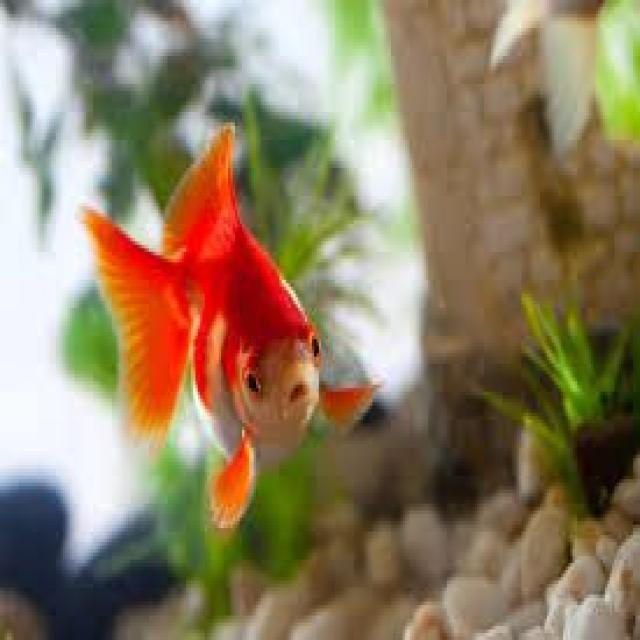Gold-Fish: (36, 103, 424, 585)
